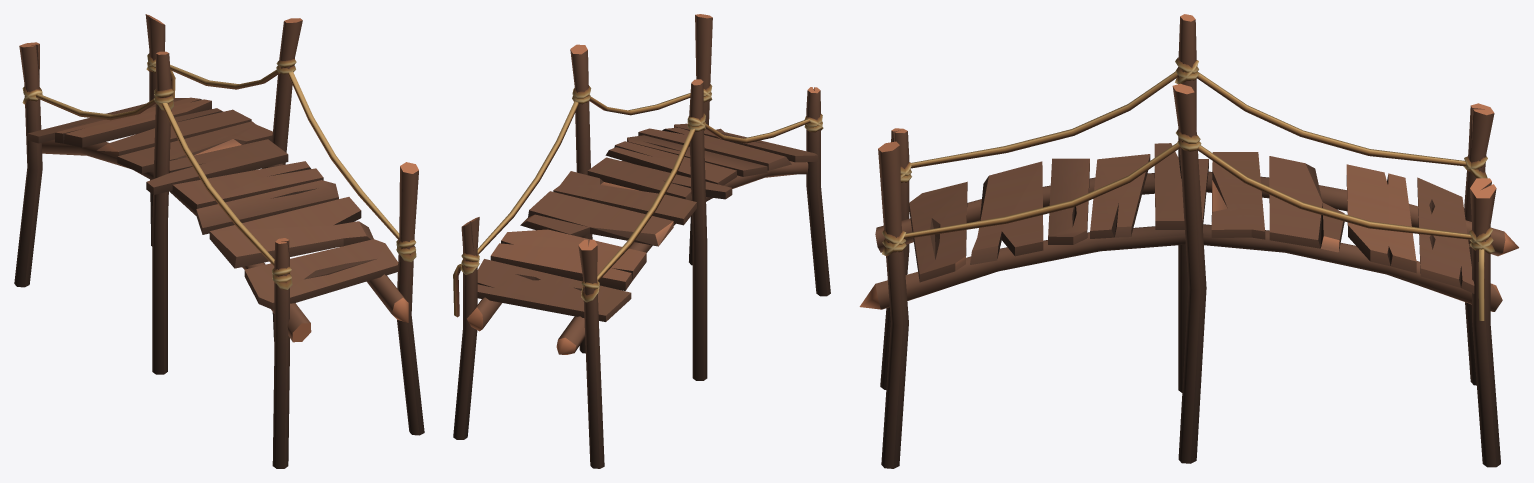
Rendered from Bridge_3A.FBX.
The picture shows the model from 3 angles, left to right: view 1: azimuth 30°, elevation 25°; view 2: azimuth 150°, elevation 25°; view 3: azimuth 270°, elevation 25°; orthographic projection. The views are drawn at different scales.
Parts seen in each view (by area): view 1: Bridge_3A; view 2: Bridge_3A; view 3: Bridge_3A.
Part boxes in pixels (<box>): Bridge_3A: <box>14,14,424,468</box>; Bridge_3A: <box>453,14,830,468</box>; Bridge_3A: <box>859,14,1518,468</box>.
Bounding box in the file's own units: 2.23 × 4.19 × 6.62.
